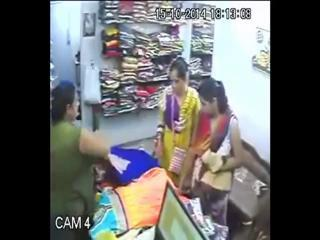Normal: (50, 80, 111, 240), (184, 78, 242, 226), (155, 57, 201, 174), (153, 182, 209, 240)
